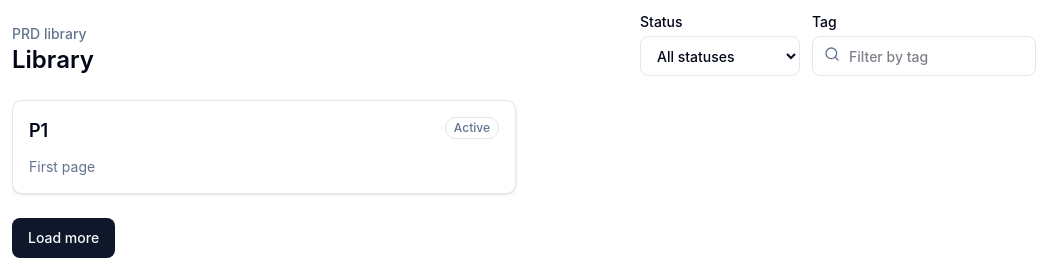
Test case: LibraryPage › T-5 appends paginated PRDs and hides Load more at the end
Expected: the button "P1" is shown, [29,117,48,145]
Click the button "Load more": (64, 238) [12,218,115,258]
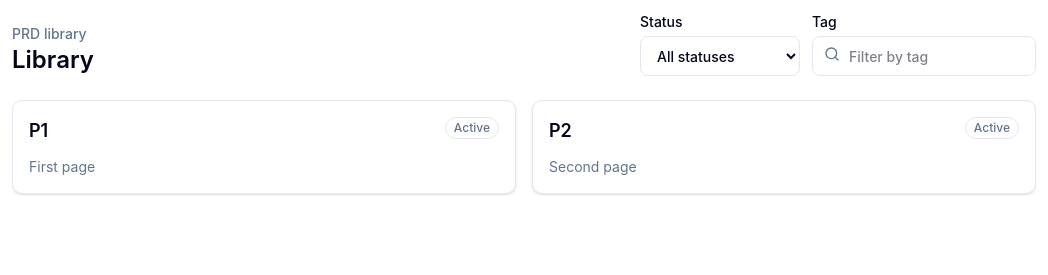
Now the button "P2" is shown, box [549,117,572,145]
Now the button "Load more" is gone
